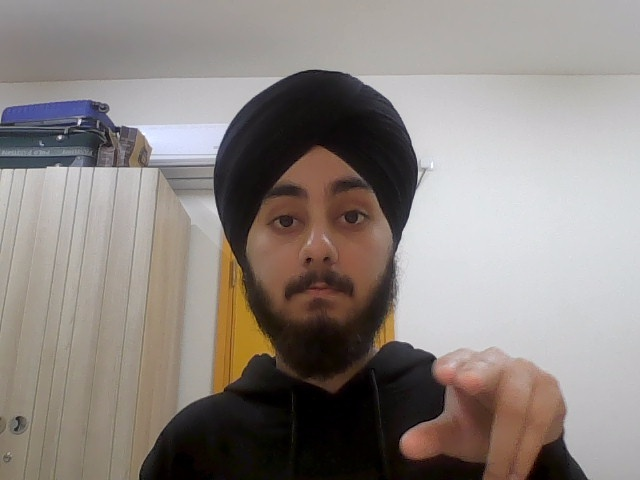No: (397, 347, 572, 480)
